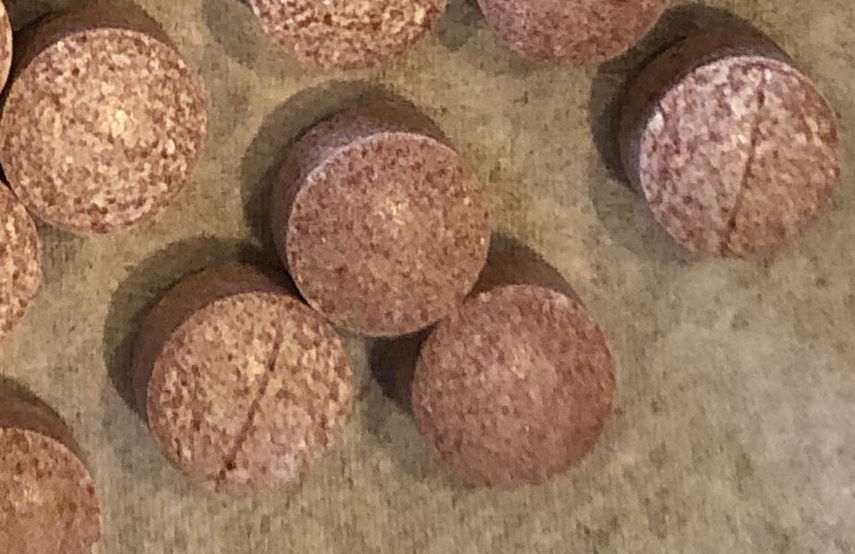tablet: (397, 260, 617, 492), (133, 276, 360, 496), (271, 113, 493, 337), (619, 37, 841, 261), (2, 12, 208, 238), (1, 384, 109, 554), (240, 1, 450, 71), (471, 1, 666, 70)
